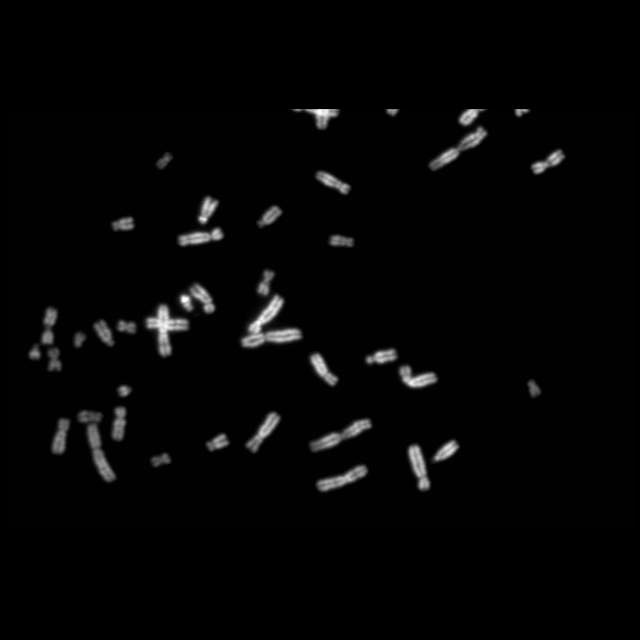chromosome: (429, 126, 487, 170), (310, 419, 370, 451), (88, 424, 117, 482), (317, 464, 367, 492), (246, 412, 279, 452), (249, 295, 283, 333), (242, 329, 303, 347), (408, 445, 430, 489), (310, 354, 338, 386), (532, 150, 566, 174), (400, 366, 438, 386), (190, 283, 215, 313), (316, 172, 350, 194), (179, 228, 223, 245), (157, 305, 171, 357), (52, 418, 70, 454), (42, 308, 58, 344), (199, 196, 219, 224), (258, 205, 282, 227), (94, 320, 114, 346), (147, 318, 188, 330), (434, 440, 458, 460), (367, 348, 397, 364), (113, 406, 127, 440), (207, 433, 229, 451), (258, 270, 274, 294), (460, 109, 484, 125), (48, 348, 62, 372), (151, 453, 171, 467), (331, 235, 354, 247), (78, 411, 102, 422), (112, 218, 133, 230), (179, 294, 193, 312), (158, 153, 172, 169), (119, 321, 136, 334), (316, 110, 328, 128), (528, 379, 540, 396), (118, 384, 132, 396), (75, 332, 85, 348), (30, 345, 40, 359)
